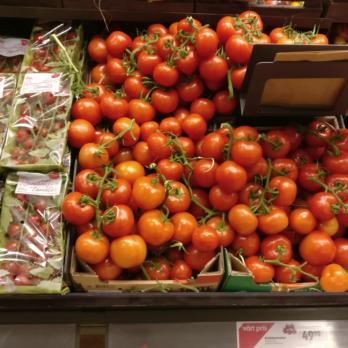Tomato: (71, 118, 348, 289), (83, 27, 237, 121), (219, 9, 337, 46)
